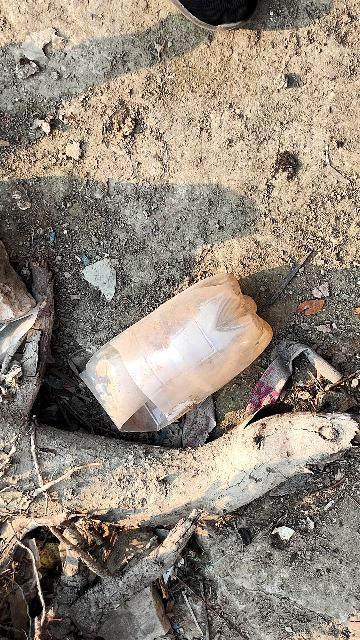bottle: (80, 277, 282, 434)
